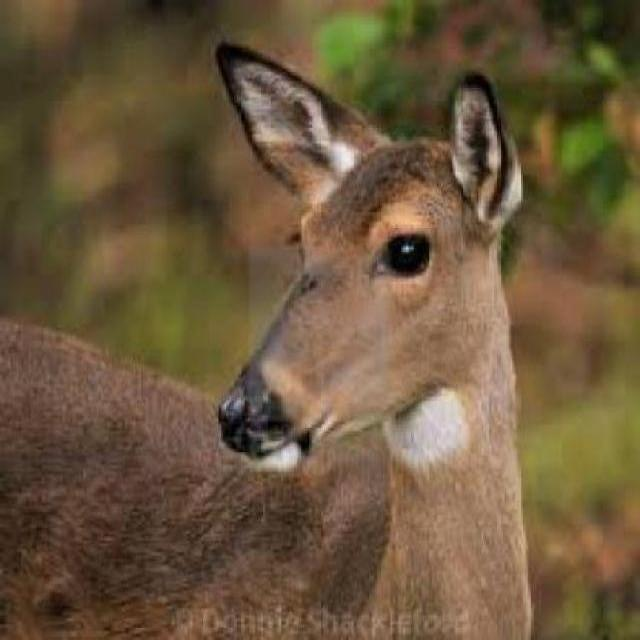deer: (4, 20, 544, 635)
